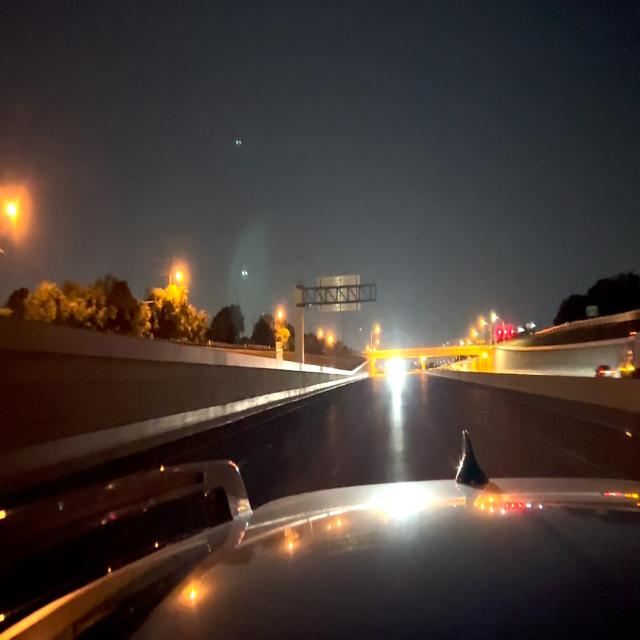back-of-sign: (318, 274, 362, 313)
